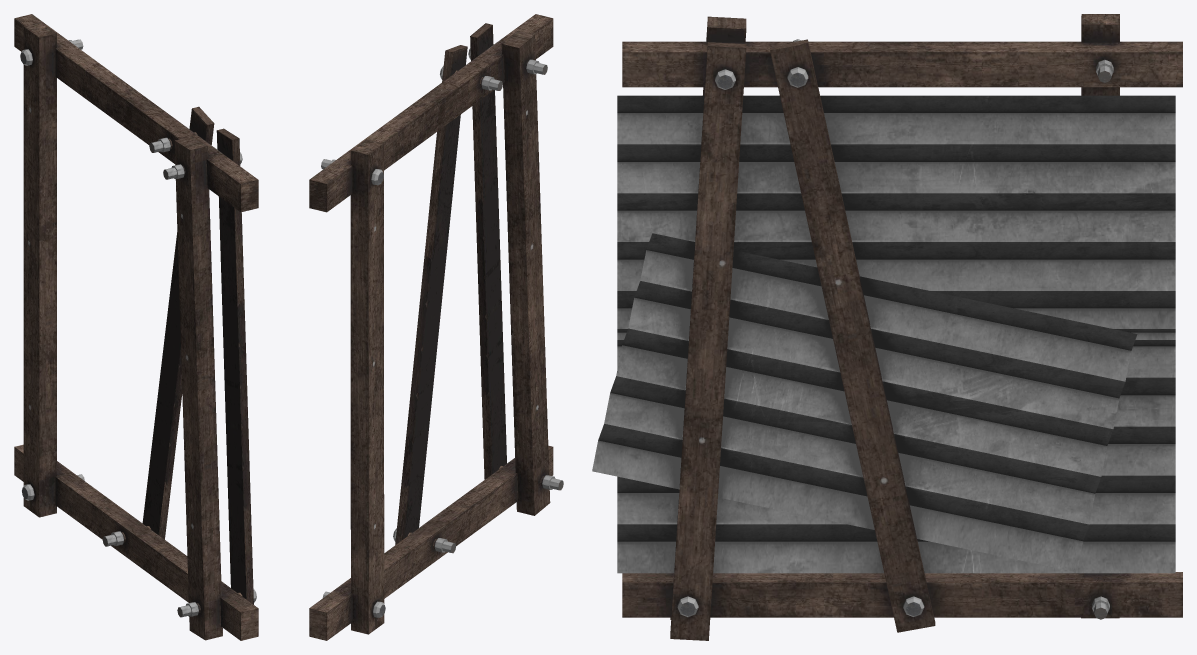
The model's file is windowBarricade1.glb.
The picture shows the model from 3 angles, left to right: view 1: azimuth 30°, elevation 25°; view 2: azimuth 150°, elevation 25°; view 3: azimuth 270°, elevation 25°; orthographic projection. The views are drawn at different scales.
Visible parts, largest first — view 1: Object.1; view 2: Object.1; view 3: Object.1.
Boxes of the visible parts, <box> form: Object.1: <box>14,14,258,640</box>; Object.1: <box>309,14,563,640</box>; Object.1: <box>592,14,1182,640</box>.
Bounding box in the file's own units: 2556 × 15838 × 14201.
1 material, 1 textured.
